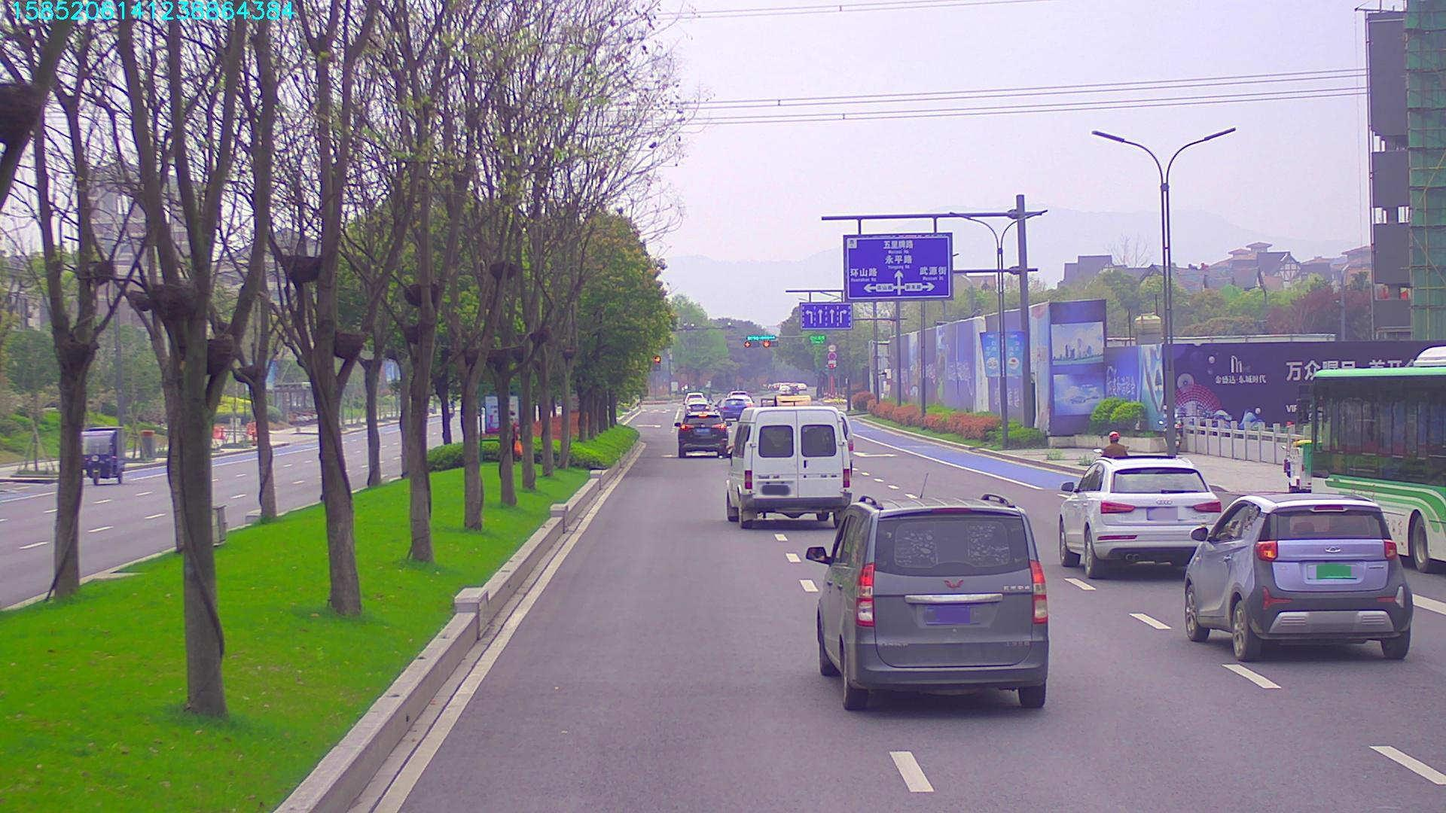red: (760, 339, 773, 349), (743, 337, 753, 349)
wait_on: (747, 330, 773, 341)
